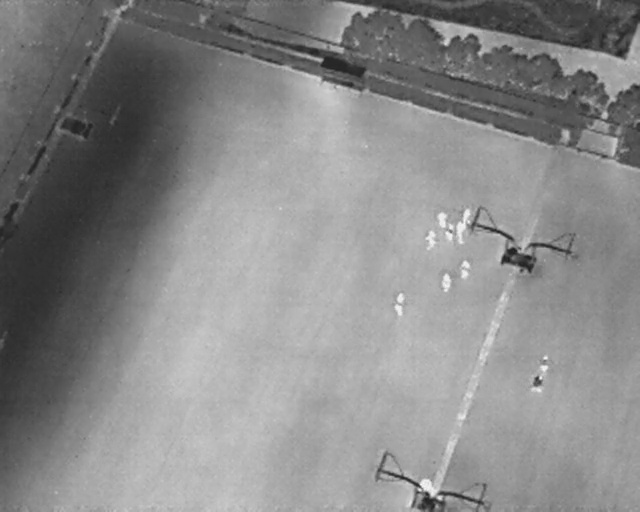Person: (393, 291, 406, 317), (529, 373, 544, 395), (424, 230, 437, 251), (460, 206, 472, 227), (441, 272, 453, 293), (460, 259, 471, 279), (456, 221, 465, 245), (437, 210, 448, 229), (420, 478, 432, 494), (540, 355, 550, 373), (446, 225, 455, 241)
